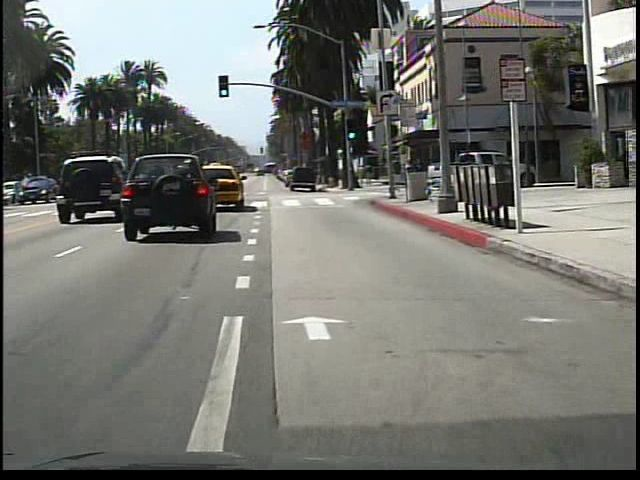person: (396, 151, 406, 193)
